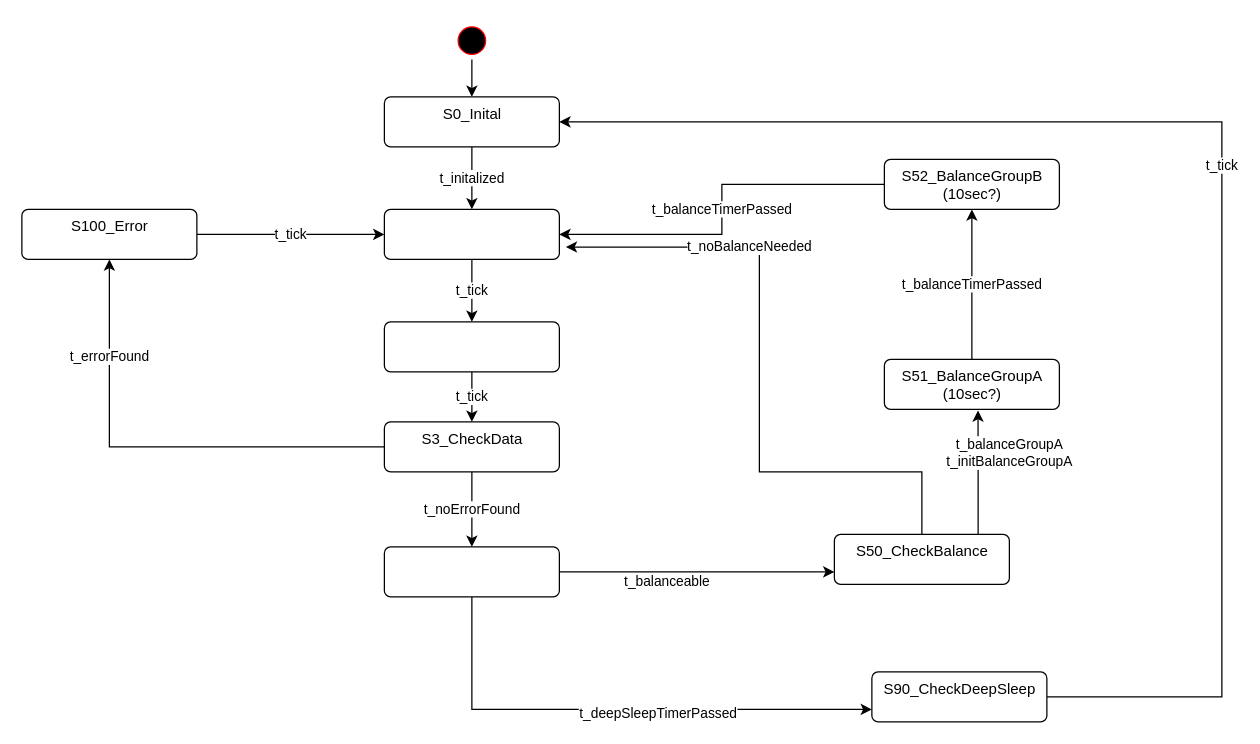
Some shapes in this 1260 by 744 pixel diagram are drawn without their labels. Each missing label, with the centre of its shape:
S1_Idle: point 471,233
S2_ReadData: point 471,346
S4_Work: point 471,571
